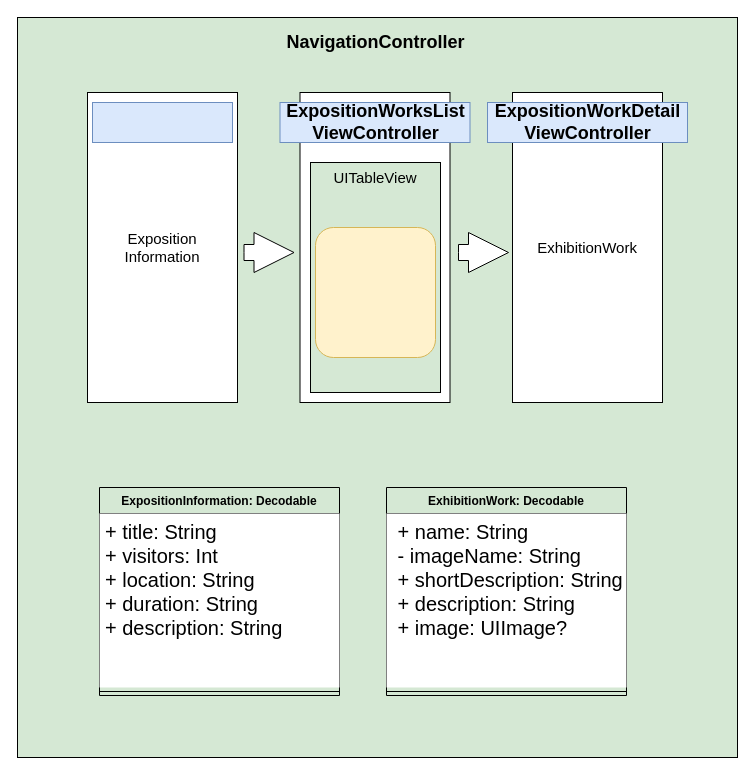
Image size: 755x775. Some labels were removed from this diagram. The shapes that lost their labels are listed below. From the top down, each one's centre as x and y in pixels, then its label:
At point 162,122: "Main ViewController".
At point 375,292: "[ExhibitionWork]".
